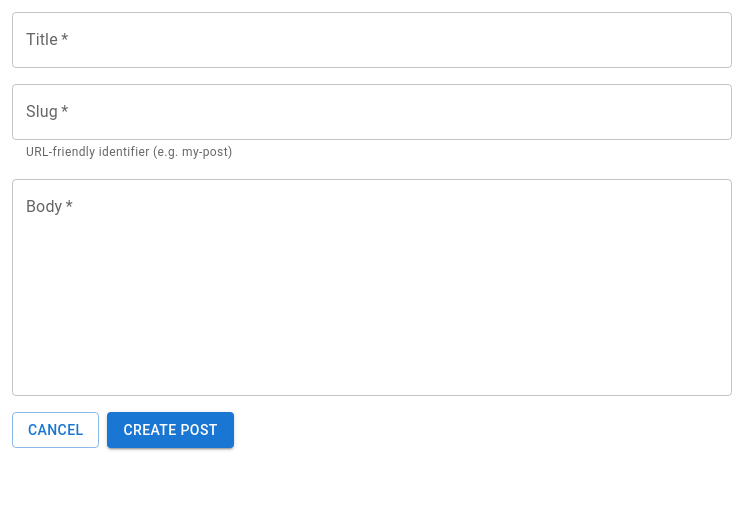
NewPostForm › should show validation errors on empty submit
This screenshot has width=749, height=514.
Click the button "Create Post" at [171, 430], box [108, 412, 234, 448]
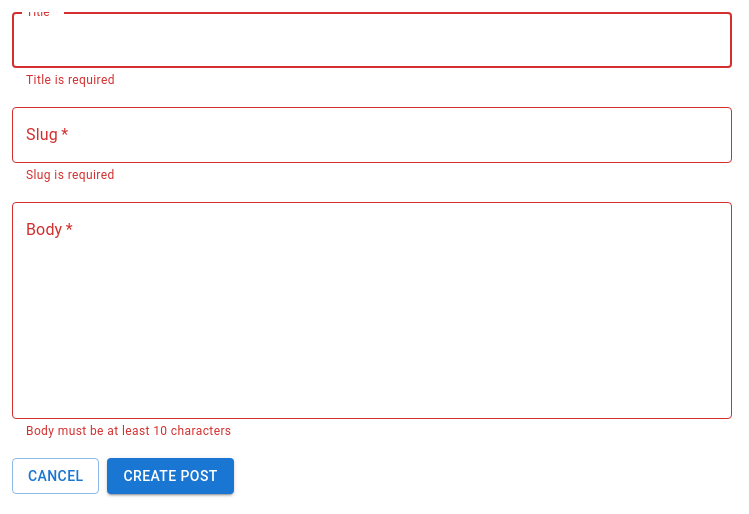
Result: the text "Title is required" is shown at [26, 73, 115, 87]
Result: the text "Slug is required" is shown at [26, 168, 115, 182]
Result: the text "Body must be at least 10 characters" is shown at [26, 424, 232, 438]
